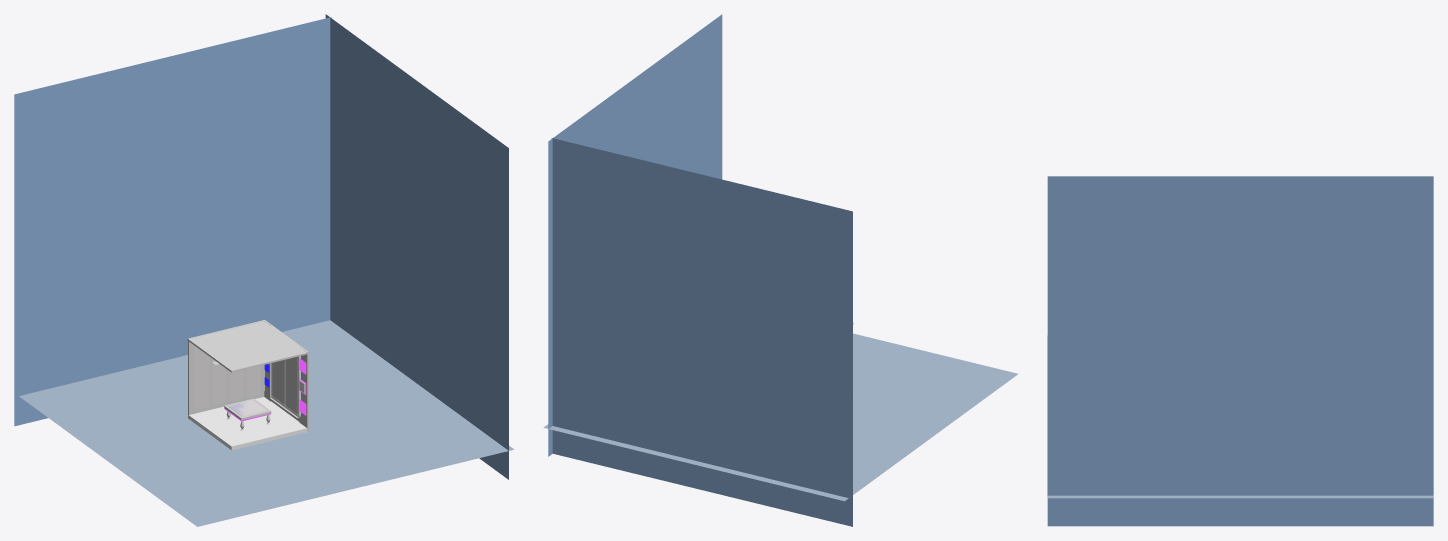
File: room01.glb
3 renders of one model, left to right at view 1: azimuth 30°, elevation 25°; view 2: azimuth 150°, elevation 25°; view 3: azimuth 270°, elevation 25°, orthographic. The views are drawn at different scales.
Parts seen in each view (by area): view 1: Plane.027, Plane.026, Plane.025, Plane.004, Plane.002, 07766c888c68f28681fb4e837ae3a503, Plane.010, Plane.014, Plane.003, Plane.013, Plane; view 2: Plane.027, Plane.026, Plane.025; view 3: Plane.026, Plane.025.
Part boxes in pixels (x1=…): Plane.027: x1=14, y1=17, x2=331, y2=426; Plane.026: x1=325, y1=14, x2=508, y2=479; Plane.025: x1=19, y1=320, x2=514, y2=526; Plane.004: x1=188, y1=320, x2=264, y2=418; Plane.002: x1=187, y1=321, x2=307, y2=372; 07766c888c68f28681fb4e837ae3a503: x1=188, y1=397, x2=307, y2=450; Plane.010: x1=270, y1=356, x2=298, y2=418; Plane.014: x1=195, y1=346, x2=208, y2=409; Plane.003: x1=263, y1=320, x2=308, y2=431; Plane.013: x1=212, y1=359, x2=226, y2=404; Plane: x1=224, y1=398, x2=271, y2=420; Plane.027: x1=551, y1=138, x2=852, y2=526; Plane.026: x1=548, y1=14, x2=722, y2=456; Plane.025: x1=543, y1=333, x2=1017, y2=501; Plane.026: x1=1047, y1=176, x2=1433, y2=526; Plane.025: x1=1047, y1=335, x2=1433, y2=498.
Bounding box in the file's own units: 21.46 × 21.16 × 21.19.
